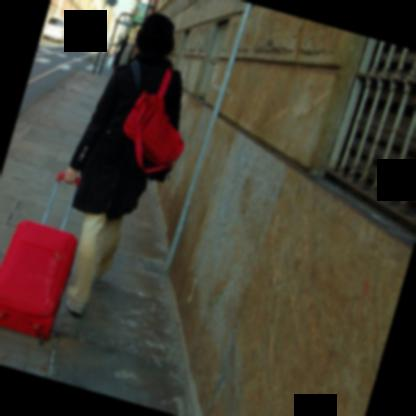backpack: (121, 68, 186, 174)
handbag: (123, 69, 186, 175)
suitcase: (0, 220, 77, 348)
